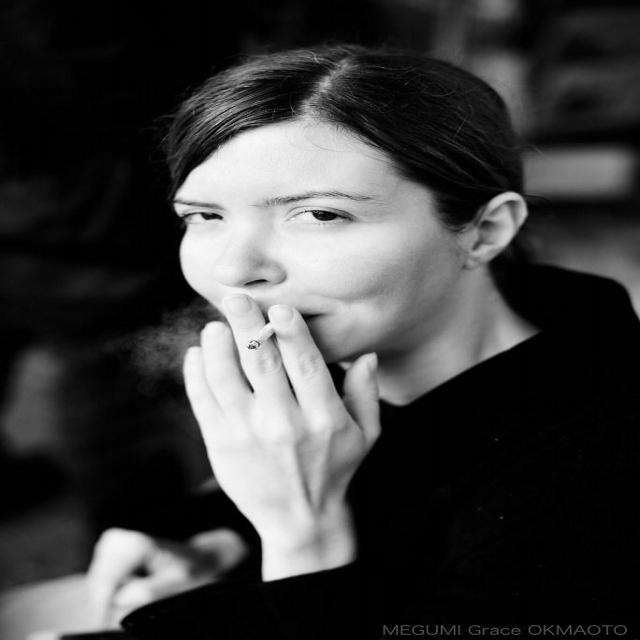Сигарета: (247, 325, 279, 352)
Тело: (173, 46, 640, 640)
